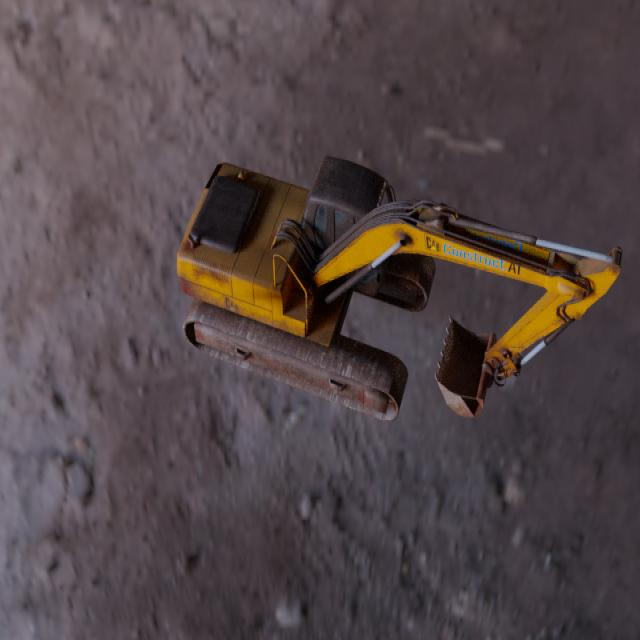excavator: (176, 155, 623, 421)
